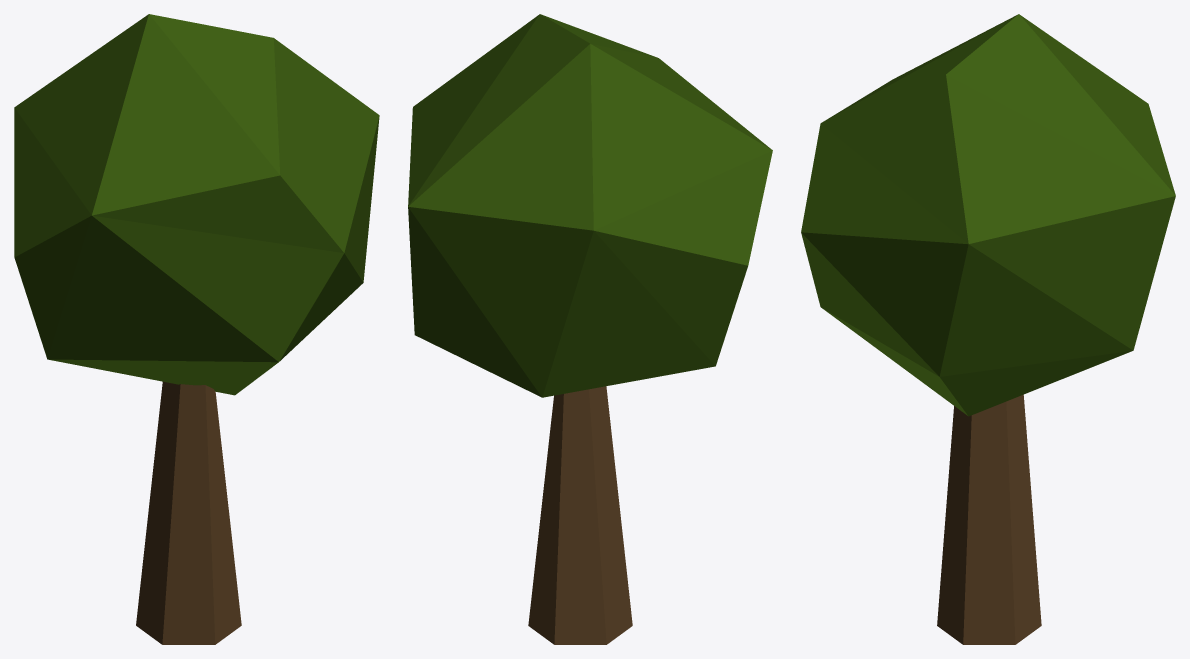
Rendered from tree.glb.
3 views of the same model, side by side, from view 1: azimuth 30°, elevation 25°; view 2: azimuth 150°, elevation 25°; view 3: azimuth 270°, elevation 25° (orthographic).
Visible parts, largest first — view 1: tree; view 2: tree; view 3: tree.
Boxes of the visible parts, bbox=[...] form: tree: bbox=[14, 14, 379, 644]; tree: bbox=[408, 14, 772, 644]; tree: bbox=[801, 14, 1175, 644].
Bounding box in the file's own units: 0.5931 × 0.9755 × 0.5526.
